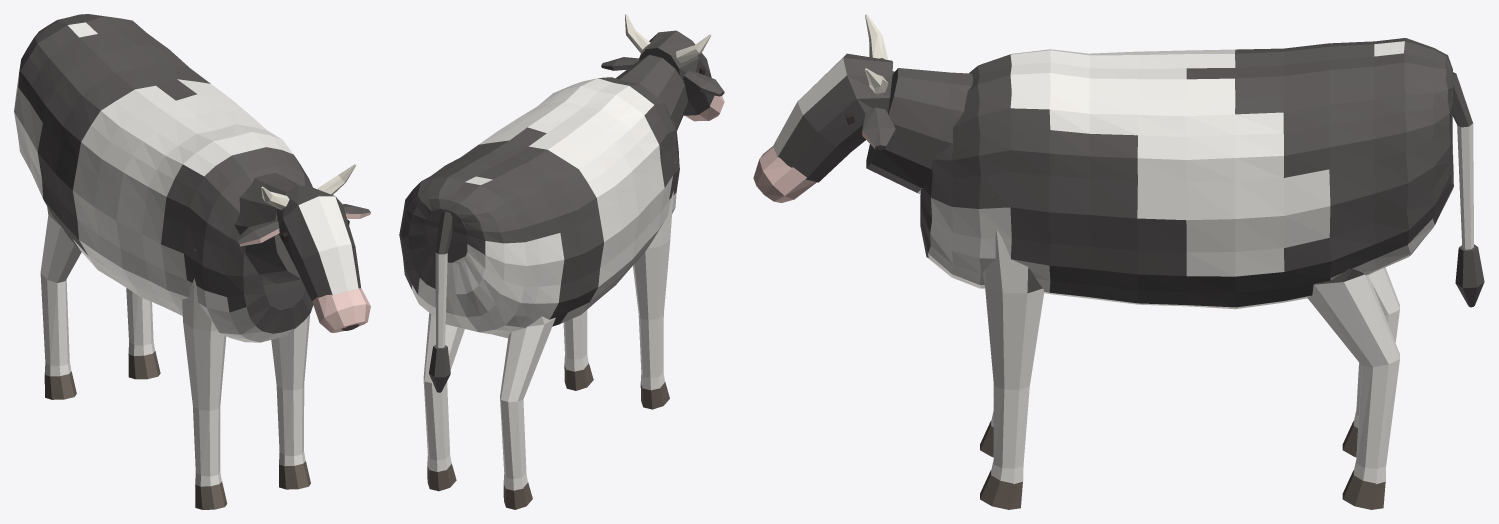
File: cow_male.glb
3 renders of one model, left to right at view 1: azimuth 30°, elevation 25°; view 2: azimuth 150°, elevation 25°; view 3: azimuth 270°, elevation 25°, orthographic. The views are drawn at different scales.
Parts seen in each view (by area): view 1: Body, Head.Skull, Leg.FR, Leg.BR, Leg.FL, Head.Neck, Head.Muzzle, Leg.BL, Leg.BL.Hoof, Leg.FR.Hoof, Leg.BR.Hoof, Leg.FL.Hoof (+2 smaller); view 2: Body, Leg.BR, Leg.FR, Leg.BL, Head.Neck, Head.Skull, Body.Tail, Leg.FL, Body.Tail.Tuft, Head.Ear#2, Leg.BL.Hoof, Leg.BR.Hoof (+5 smaller); view 3: Body, Leg.FL, Leg.BL, Head.Skull, Head.Neck, Body.Tail, Head.Muzzle, Leg.BR, Body.Tail.Tuft, Leg.BL.Hoof, Leg.FL.Hoof, Head.Ear.
Boxes of the visible parts, x1,y1,x2,y2 form: Body: [14, 14, 313, 342]; Head.Skull: [277, 185, 360, 301]; Leg.FR: [182, 249, 226, 486]; Leg.BR: [40, 206, 81, 376]; Leg.FL: [271, 314, 310, 466]; Head.Neck: [234, 173, 300, 283]; Head.Muzzle: [312, 287, 370, 332]; Leg.BL: [126, 288, 155, 355]; Leg.BL.Hoof: [128, 351, 160, 379]; Leg.FR.Hoof: [195, 481, 227, 509]; Leg.BR.Hoof: [44, 371, 76, 399]; Leg.FL.Hoof: [279, 461, 310, 489]; Body: [399, 77, 679, 338]; Leg.BR: [500, 316, 555, 490]; Leg.FR: [633, 162, 675, 389]; Leg.BL: [423, 313, 464, 471]; Head.Neck: [616, 55, 687, 130]; Head.Skull: [639, 30, 714, 115]; Body.Tail: [435, 211, 452, 347]; Leg.FL: [563, 310, 588, 371]; Body.Tail.Tuft: [429, 345, 450, 392]; Head.Ear#2: [683, 71, 724, 96]; Leg.BL.Hoof: [427, 463, 456, 491]; Leg.BR.Hoof: [503, 482, 532, 509]; Body: [920, 38, 1453, 309]; Leg.FL: [982, 195, 1044, 483]; Leg.BL: [1307, 268, 1399, 484]; Head.Skull: [773, 53, 892, 182]; Head.Neck: [866, 68, 973, 194]; Body.Tail: [1452, 72, 1473, 249]; Head.Muzzle: [753, 146, 816, 202]; Leg.BR: [1354, 267, 1399, 427]; Body.Tail.Tuft: [1455, 244, 1484, 307]; Leg.BL.Hoof: [1342, 470, 1385, 509]; Leg.FL.Hoof: [980, 470, 1022, 509]; Head.Ear: [862, 107, 895, 149].
Size of the model in its own units: 0.7991 by 1.68 by 2.53.
